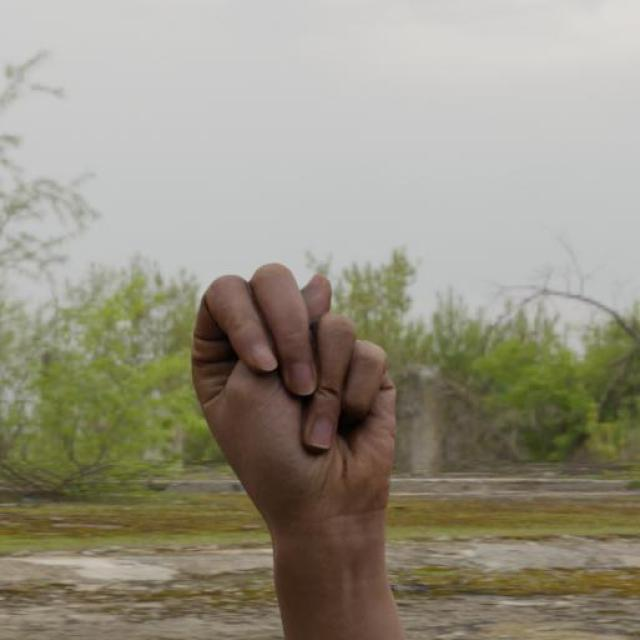N: (190, 258, 396, 512)
